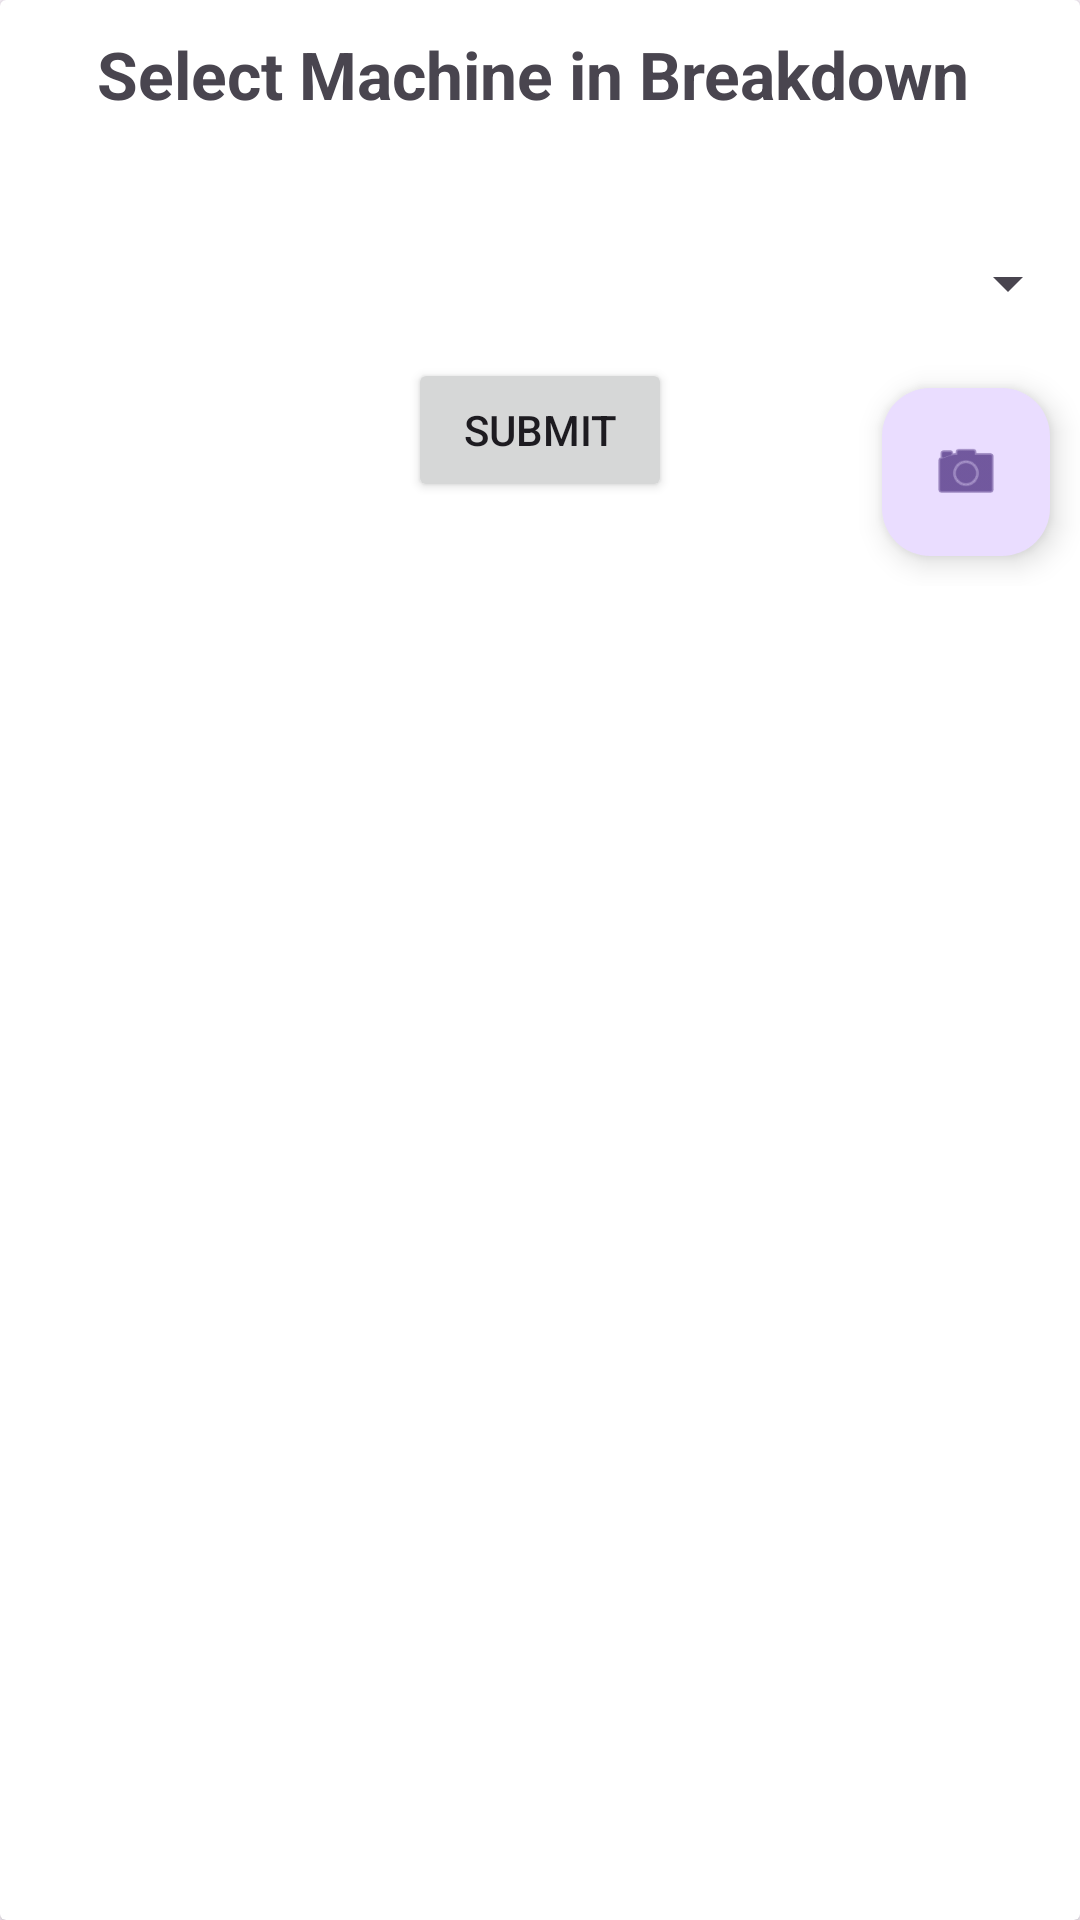

Screen size 1080px x 1920px. Icon name, then its center in pixels as [x,y]:
open camera scanner: [966,472]
